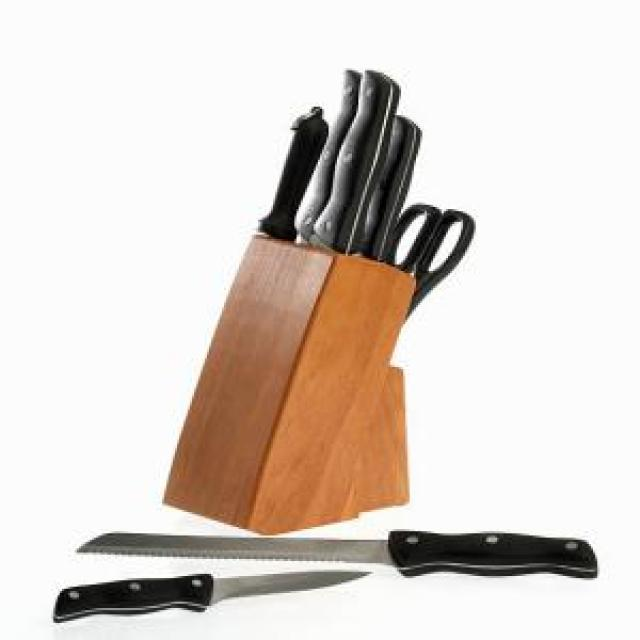knife: (72, 525, 606, 580), (32, 566, 380, 628)
